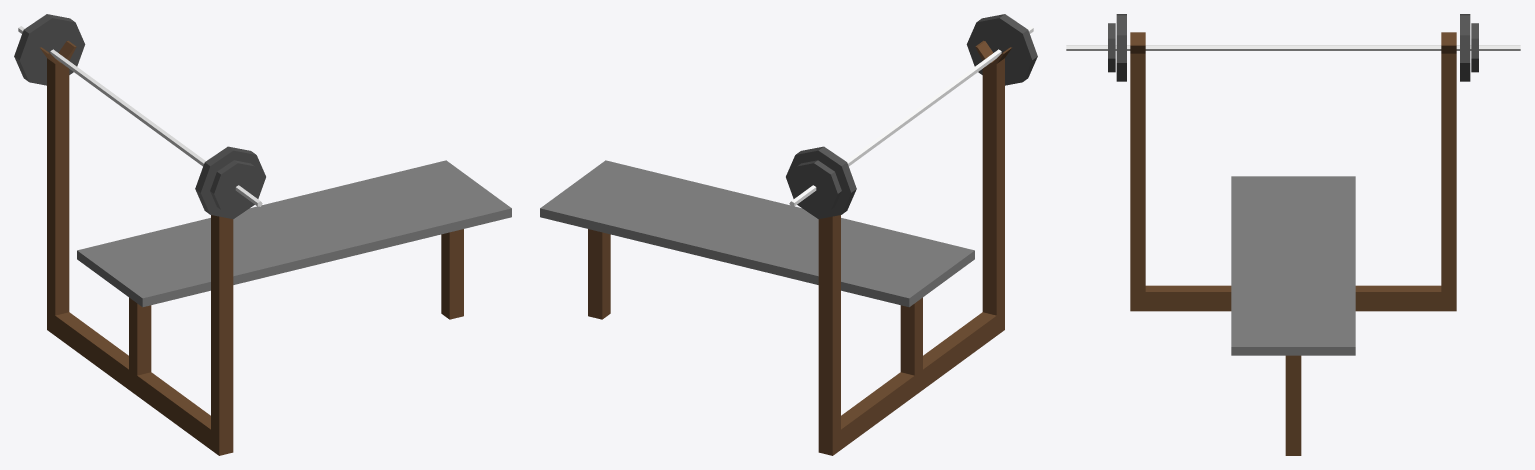
Rendered from dumbbells.fbx.
The picture shows the model from 3 angles, left to right: view 1: azimuth 30°, elevation 25°; view 2: azimuth 150°, elevation 25°; view 3: azimuth 270°, elevation 25°; orthographic projection. The views are drawn at different scales.
Visible parts, largest first — view 1: dumbbells_set, dumbbells; view 2: dumbbells_set, dumbbells; view 3: dumbbells_set, dumbbells.
Boxes of the visible parts, <box> form: dumbbells_set: <box>40,40,511,455</box>; dumbbells: <box>14,14,265,219</box>; dumbbells_set: <box>540,40,1011,455</box>; dumbbells: <box>786,14,1037,219</box>; dumbbells_set: <box>1130,32,1456,455</box>; dumbbells: <box>1066,14,1520,81</box>.
Bounding box in the file's own units: 131 × 104 × 146.
